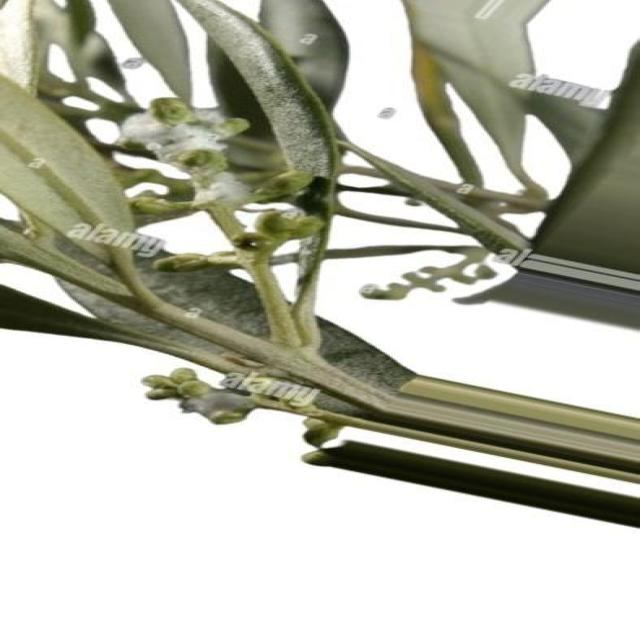Psyllid: (120, 97, 275, 207)
